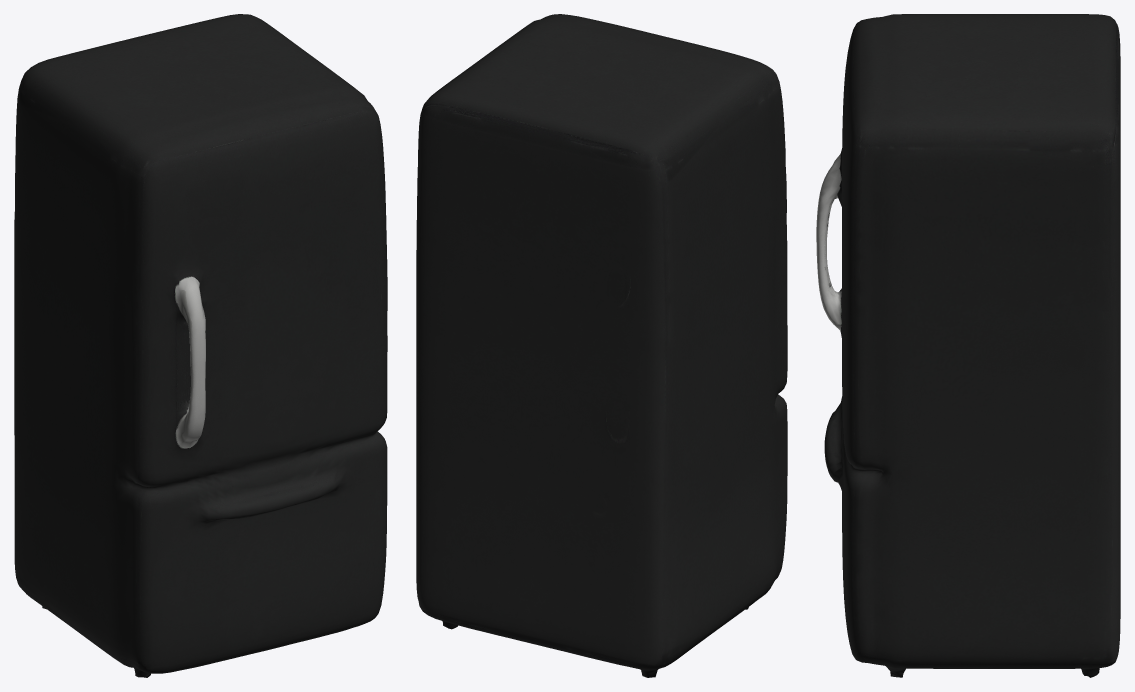
Rendered from Black_Two_Door_frigerator.glb.
The picture shows the model from 3 angles, left to right: view 1: azimuth 30°, elevation 25°; view 2: azimuth 150°, elevation 25°; view 3: azimuth 270°, elevation 25°; orthographic projection. The views are drawn at different scales.
Size of the model in its own units: 0.9517 by 1.91 by 0.9395.
1 material, 1 textured.
